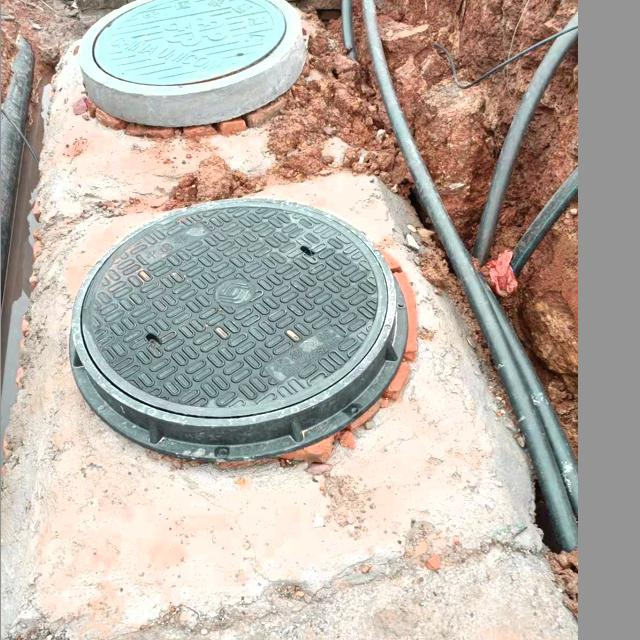good: (67, 199, 407, 462), (80, 0, 300, 93)
